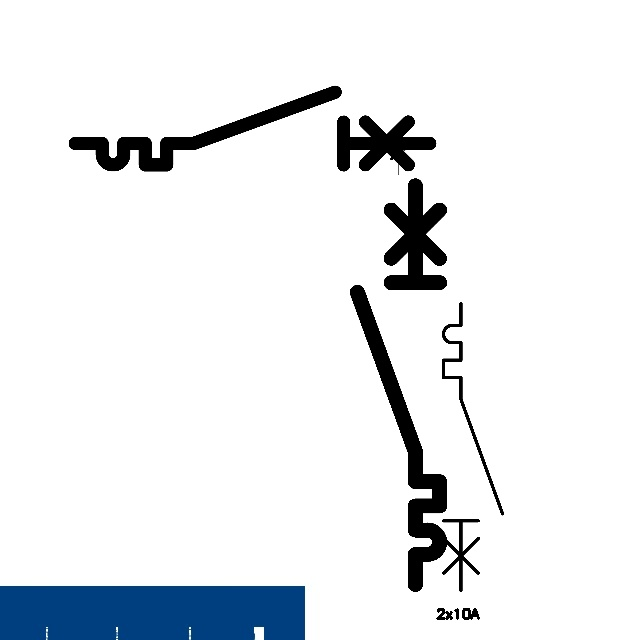interruptor_termomagnetico: (347, 175, 450, 595), (66, 83, 439, 174), (436, 296, 510, 597)
